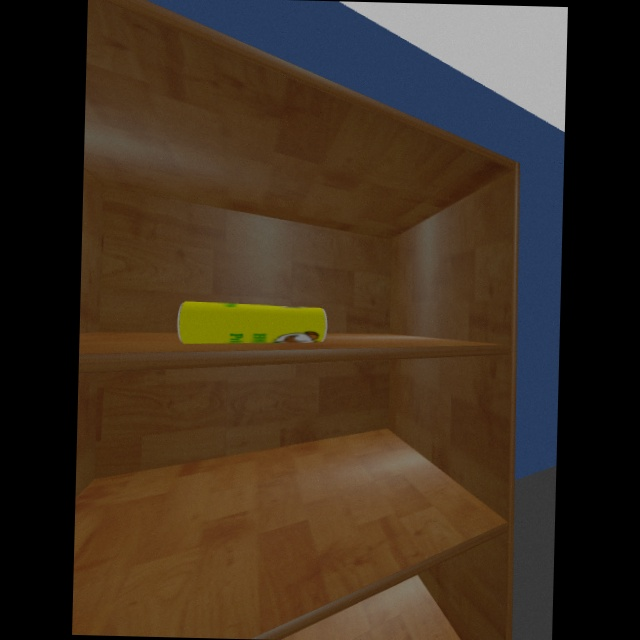chipsdose_gelb: (177, 300, 328, 342)
